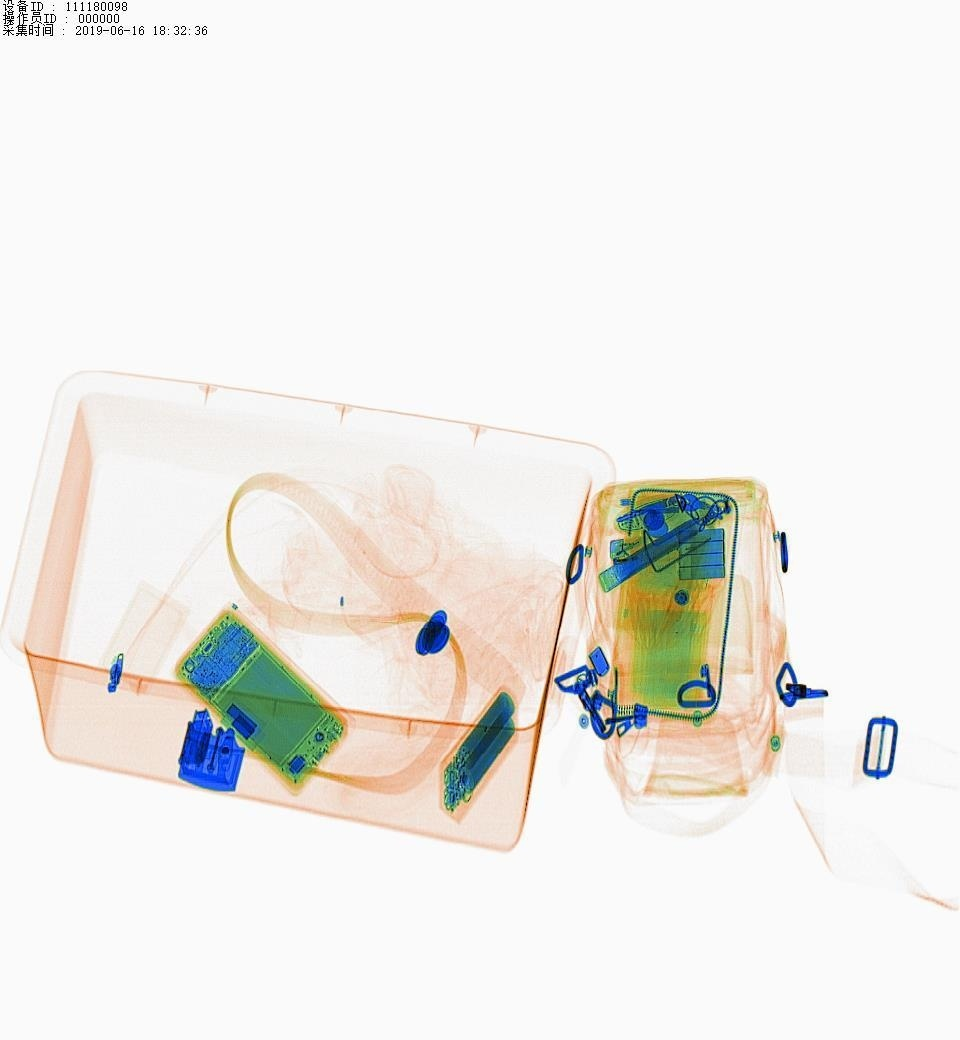NonmetallicFire: (606, 527, 700, 582)
